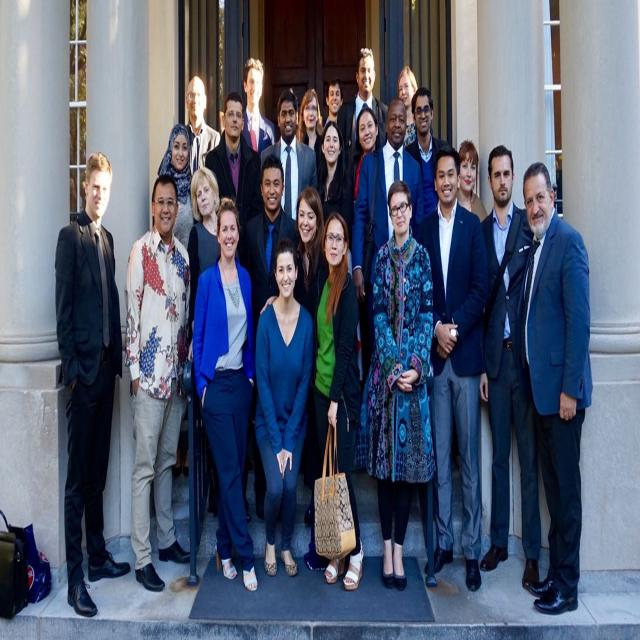body: (258, 209, 366, 595), (348, 175, 439, 593), (410, 142, 492, 595), (514, 160, 594, 617), (54, 151, 132, 617), (120, 169, 193, 596), (479, 143, 544, 597), (190, 195, 262, 594), (350, 95, 426, 410), (250, 235, 316, 580), (242, 150, 302, 524), (287, 184, 332, 532), (343, 106, 383, 397), (204, 92, 264, 232), (259, 88, 319, 224), (186, 164, 222, 362), (336, 44, 391, 170), (404, 84, 449, 220), (156, 121, 198, 252), (316, 119, 355, 254), (184, 74, 222, 178), (240, 56, 276, 156), (295, 85, 328, 187), (455, 138, 489, 225), (397, 64, 418, 148), (321, 74, 343, 130)
